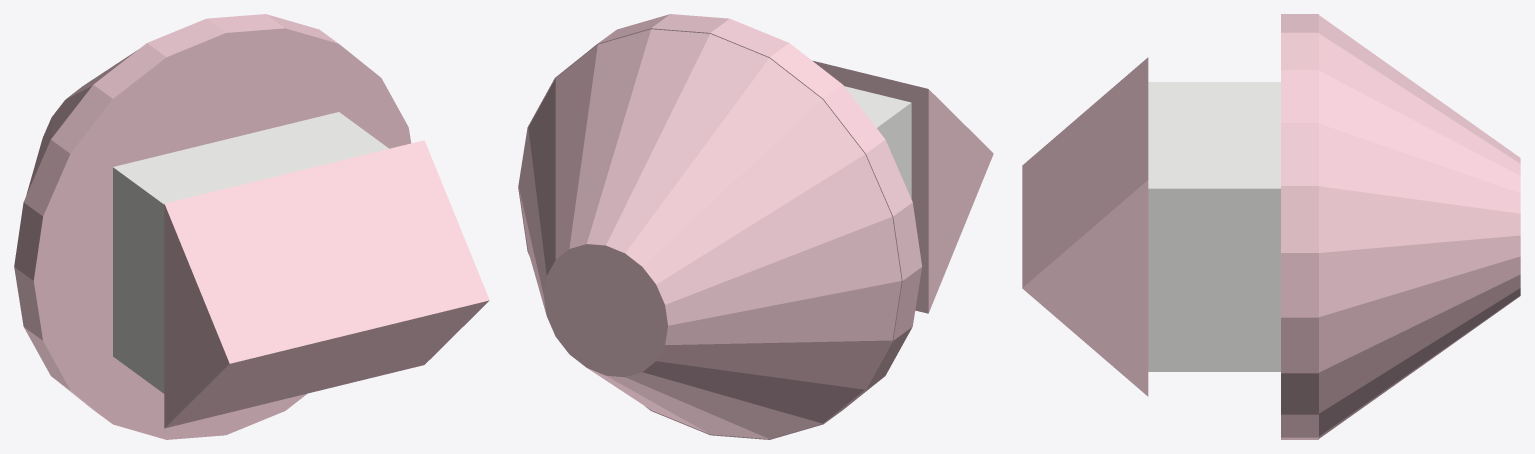
Rendered from 5_pin_house.glb.
3 views of the same model, side by side, from view 1: azimuth 30°, elevation 25°; view 2: azimuth 150°, elevation 25°; view 3: azimuth 270°, elevation 25° (orthographic). The views are drawn at different scales.
Parts seen in each view (by area): view 1: accent, body; view 2: accent, body; view 3: accent, body.
Boxes of the visible parts, bbox=[...] form: accent: bbox=[14, 14, 489, 439]; body: bbox=[113, 112, 388, 393]; accent: bbox=[518, 14, 993, 439]; body: bbox=[844, 86, 911, 198]; accent: bbox=[1022, 14, 1520, 439]; body: bbox=[1148, 82, 1280, 371].
Size of the model in its own units: 3.4 by 3.4 by 3.95.
